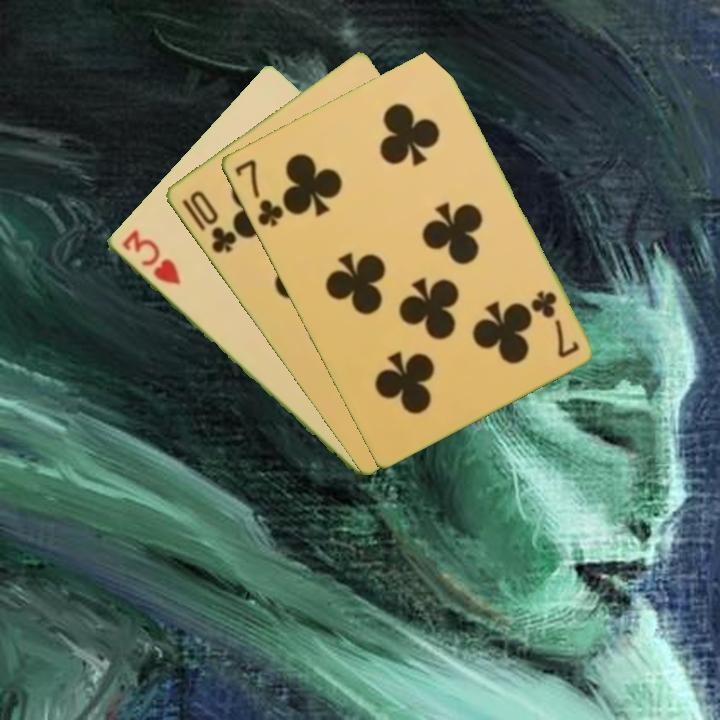10c: (177, 187, 240, 256)
3h: (117, 225, 183, 288)
7c: (230, 155, 286, 230), (527, 286, 582, 361)
